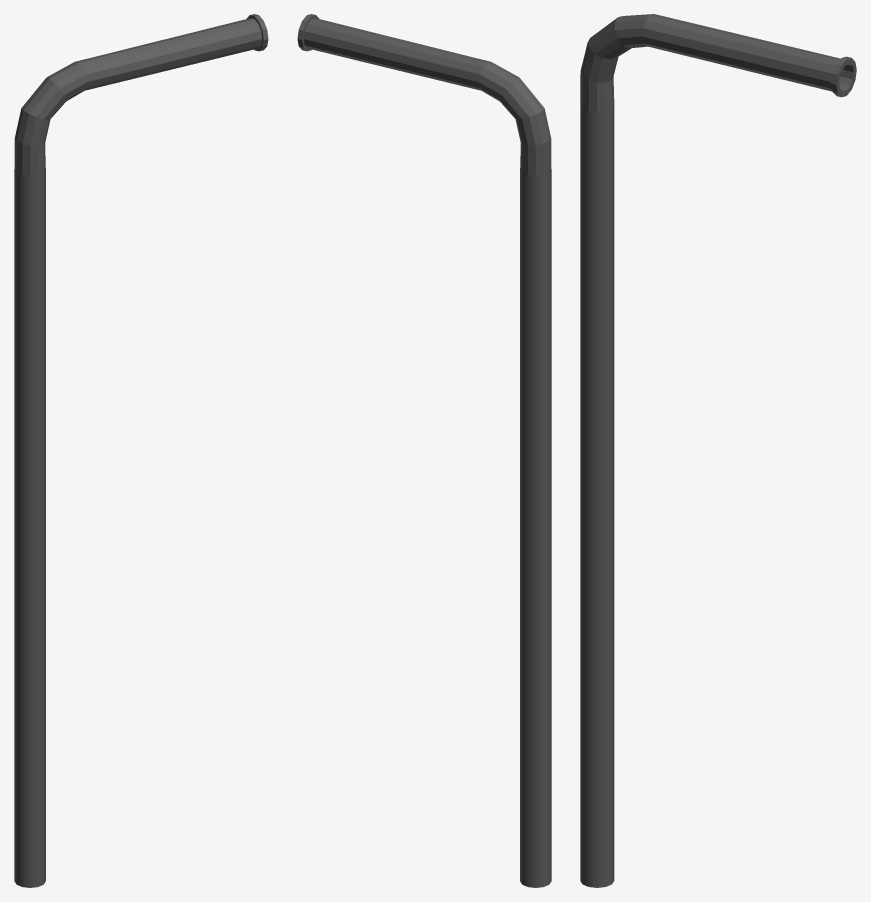
Rendered from SM_pipe_03.fbx.
The picture shows the model from 3 angles, left to right: view 1: azimuth 30°, elevation 25°; view 2: azimuth 150°, elevation 25°; view 3: azimuth 330°, elevation 25°; orthographic projection. The views are drawn at different scales.
Parts seen in each view (by area): view 1: pipe_03; view 2: pipe_03; view 3: pipe_03.
Part boxes in pixels (x1,y1,x2,y2): pipe_03: (14, 14, 268, 887); pipe_03: (297, 14, 551, 887); pipe_03: (580, 14, 856, 887).
Size of the model in its own units: 131 by 418 by 17.52.
